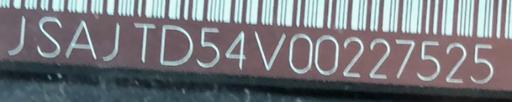letter: (158, 23, 194, 67), (253, 28, 287, 72), (64, 19, 98, 60), (36, 14, 64, 59), (131, 20, 157, 67), (313, 31, 339, 76), (287, 30, 313, 74), (195, 26, 221, 69), (469, 41, 495, 84), (416, 39, 442, 81), (392, 37, 416, 80), (223, 28, 247, 70), (367, 36, 391, 78), (444, 41, 468, 83), (6, 15, 28, 56), (342, 35, 364, 76), (100, 20, 120, 62)
